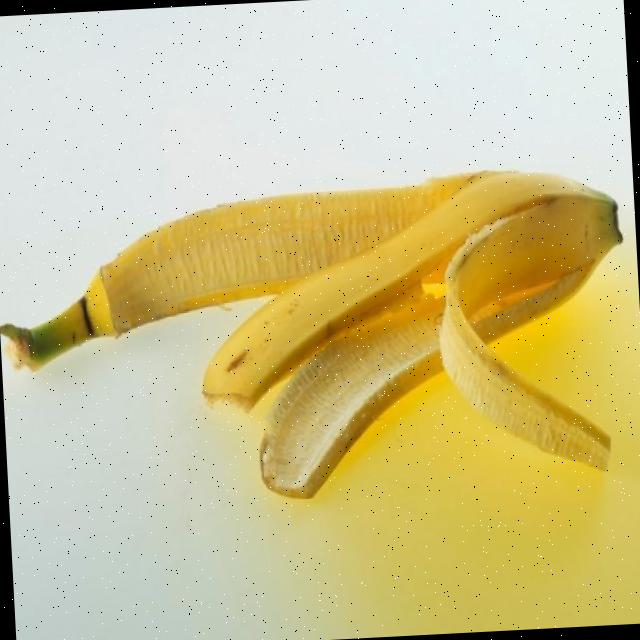banana-peel: (0, 159, 635, 513), (189, 162, 628, 414), (0, 168, 494, 374)
